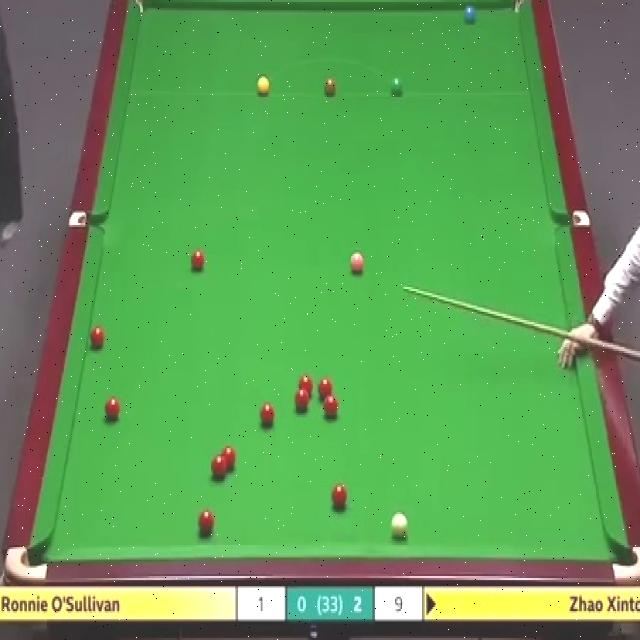blue-ball: (462, 2, 478, 28)
brown-ball: (323, 78, 338, 99)
green-ball: (389, 76, 404, 98)
pink-ball: (350, 250, 366, 276)
red-ball: (102, 393, 121, 424), (331, 484, 348, 512), (198, 509, 214, 537), (89, 326, 106, 352), (210, 454, 226, 481), (189, 246, 205, 272), (260, 405, 277, 429), (293, 389, 310, 413), (297, 375, 314, 396), (324, 394, 338, 418), (222, 446, 235, 471), (317, 378, 333, 398)
white-ball: (389, 510, 410, 538)
yellow-ball: (256, 76, 270, 97)
